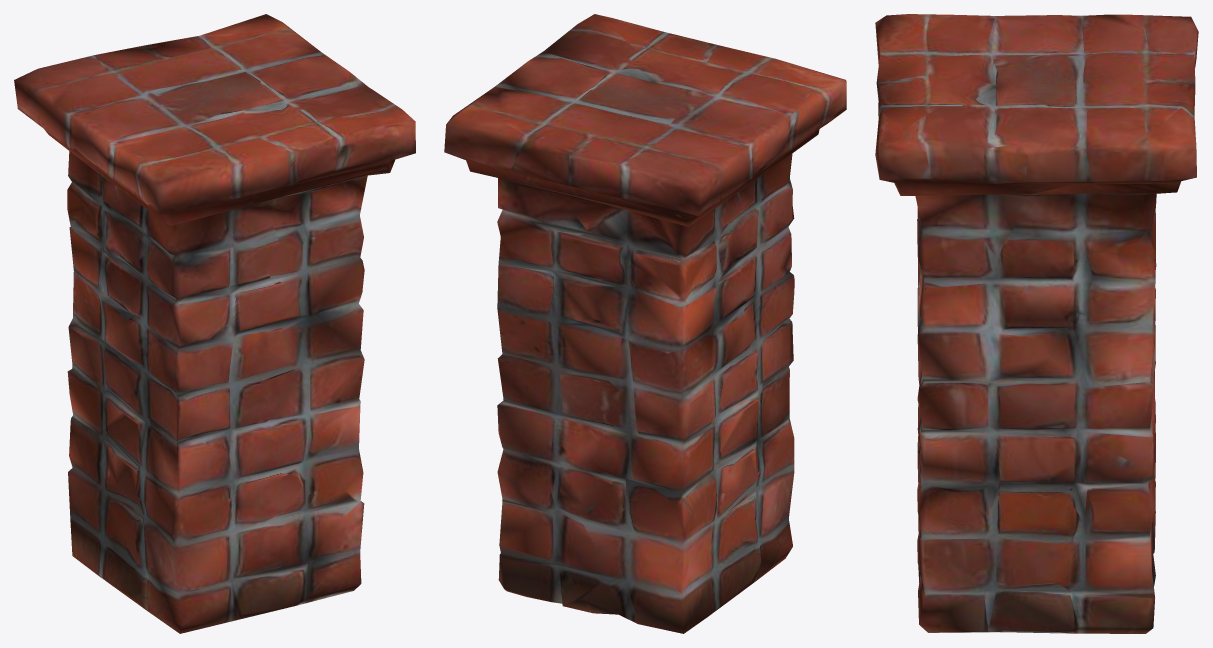
3 views of the same model, side by side, from view 1: azimuth 30°, elevation 25°; view 2: azimuth 150°, elevation 25°; view 3: azimuth 270°, elevation 25° (orthographic). The views are drawn at different scales.
Parts seen in each view (by area): view 1: tripo_node_7dd01bcb-2679-49bb-9dfe-1b5dfdf017ab; view 2: tripo_node_7dd01bcb-2679-49bb-9dfe-1b5dfdf017ab; view 3: tripo_node_7dd01bcb-2679-49bb-9dfe-1b5dfdf017ab.
Boxes of the visible parts, x1=… form: tripo_node_7dd01bcb-2679-49bb-9dfe-1b5dfdf017ab: x1=14, y1=14, x2=415, y2=633; tripo_node_7dd01bcb-2679-49bb-9dfe-1b5dfdf017ab: x1=444, y1=14, x2=846, y2=633; tripo_node_7dd01bcb-2679-49bb-9dfe-1b5dfdf017ab: x1=875, y1=14, x2=1198, y2=633.
Size of the model in its own units: 0.5746 by 0.9995 by 0.5744.
1 material, 1 textured.
